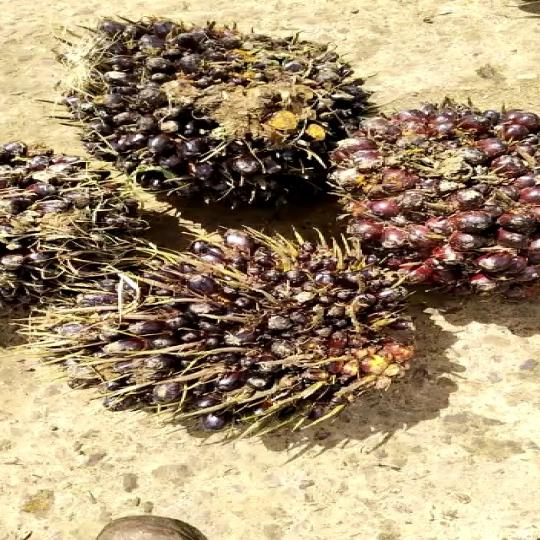kurang masak: (45, 242, 443, 426), (56, 7, 383, 205), (325, 103, 540, 312), (0, 151, 162, 302)
